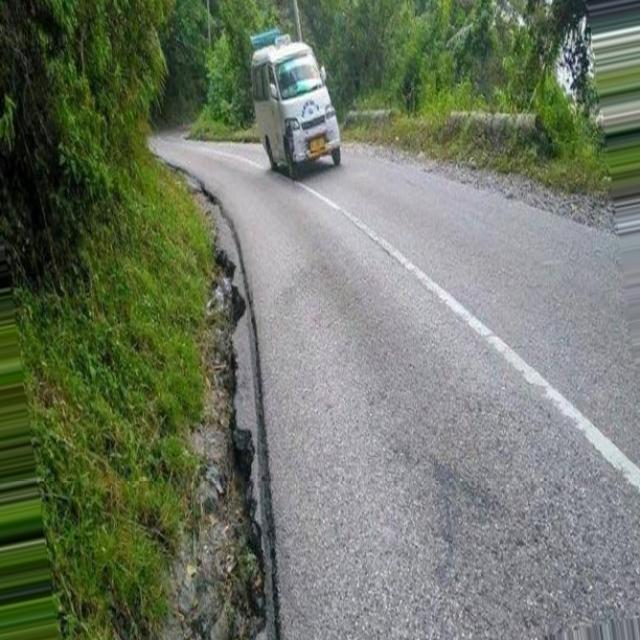Pinggir: (184, 178, 297, 640)
